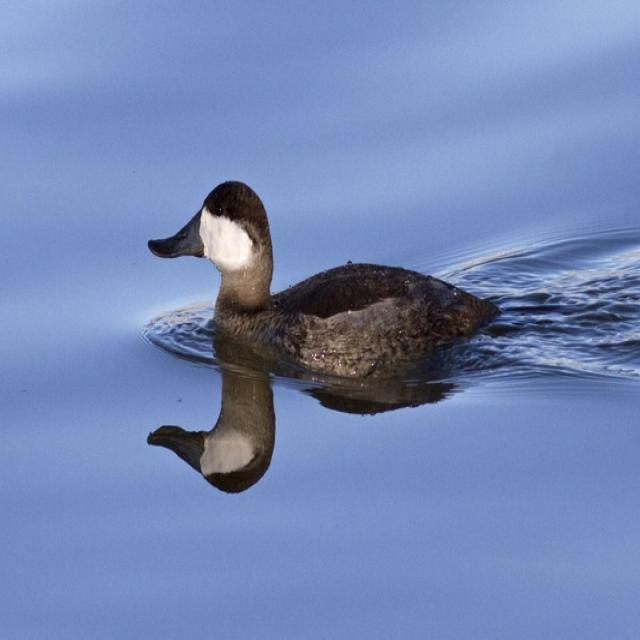bird: (149, 180, 499, 403)
